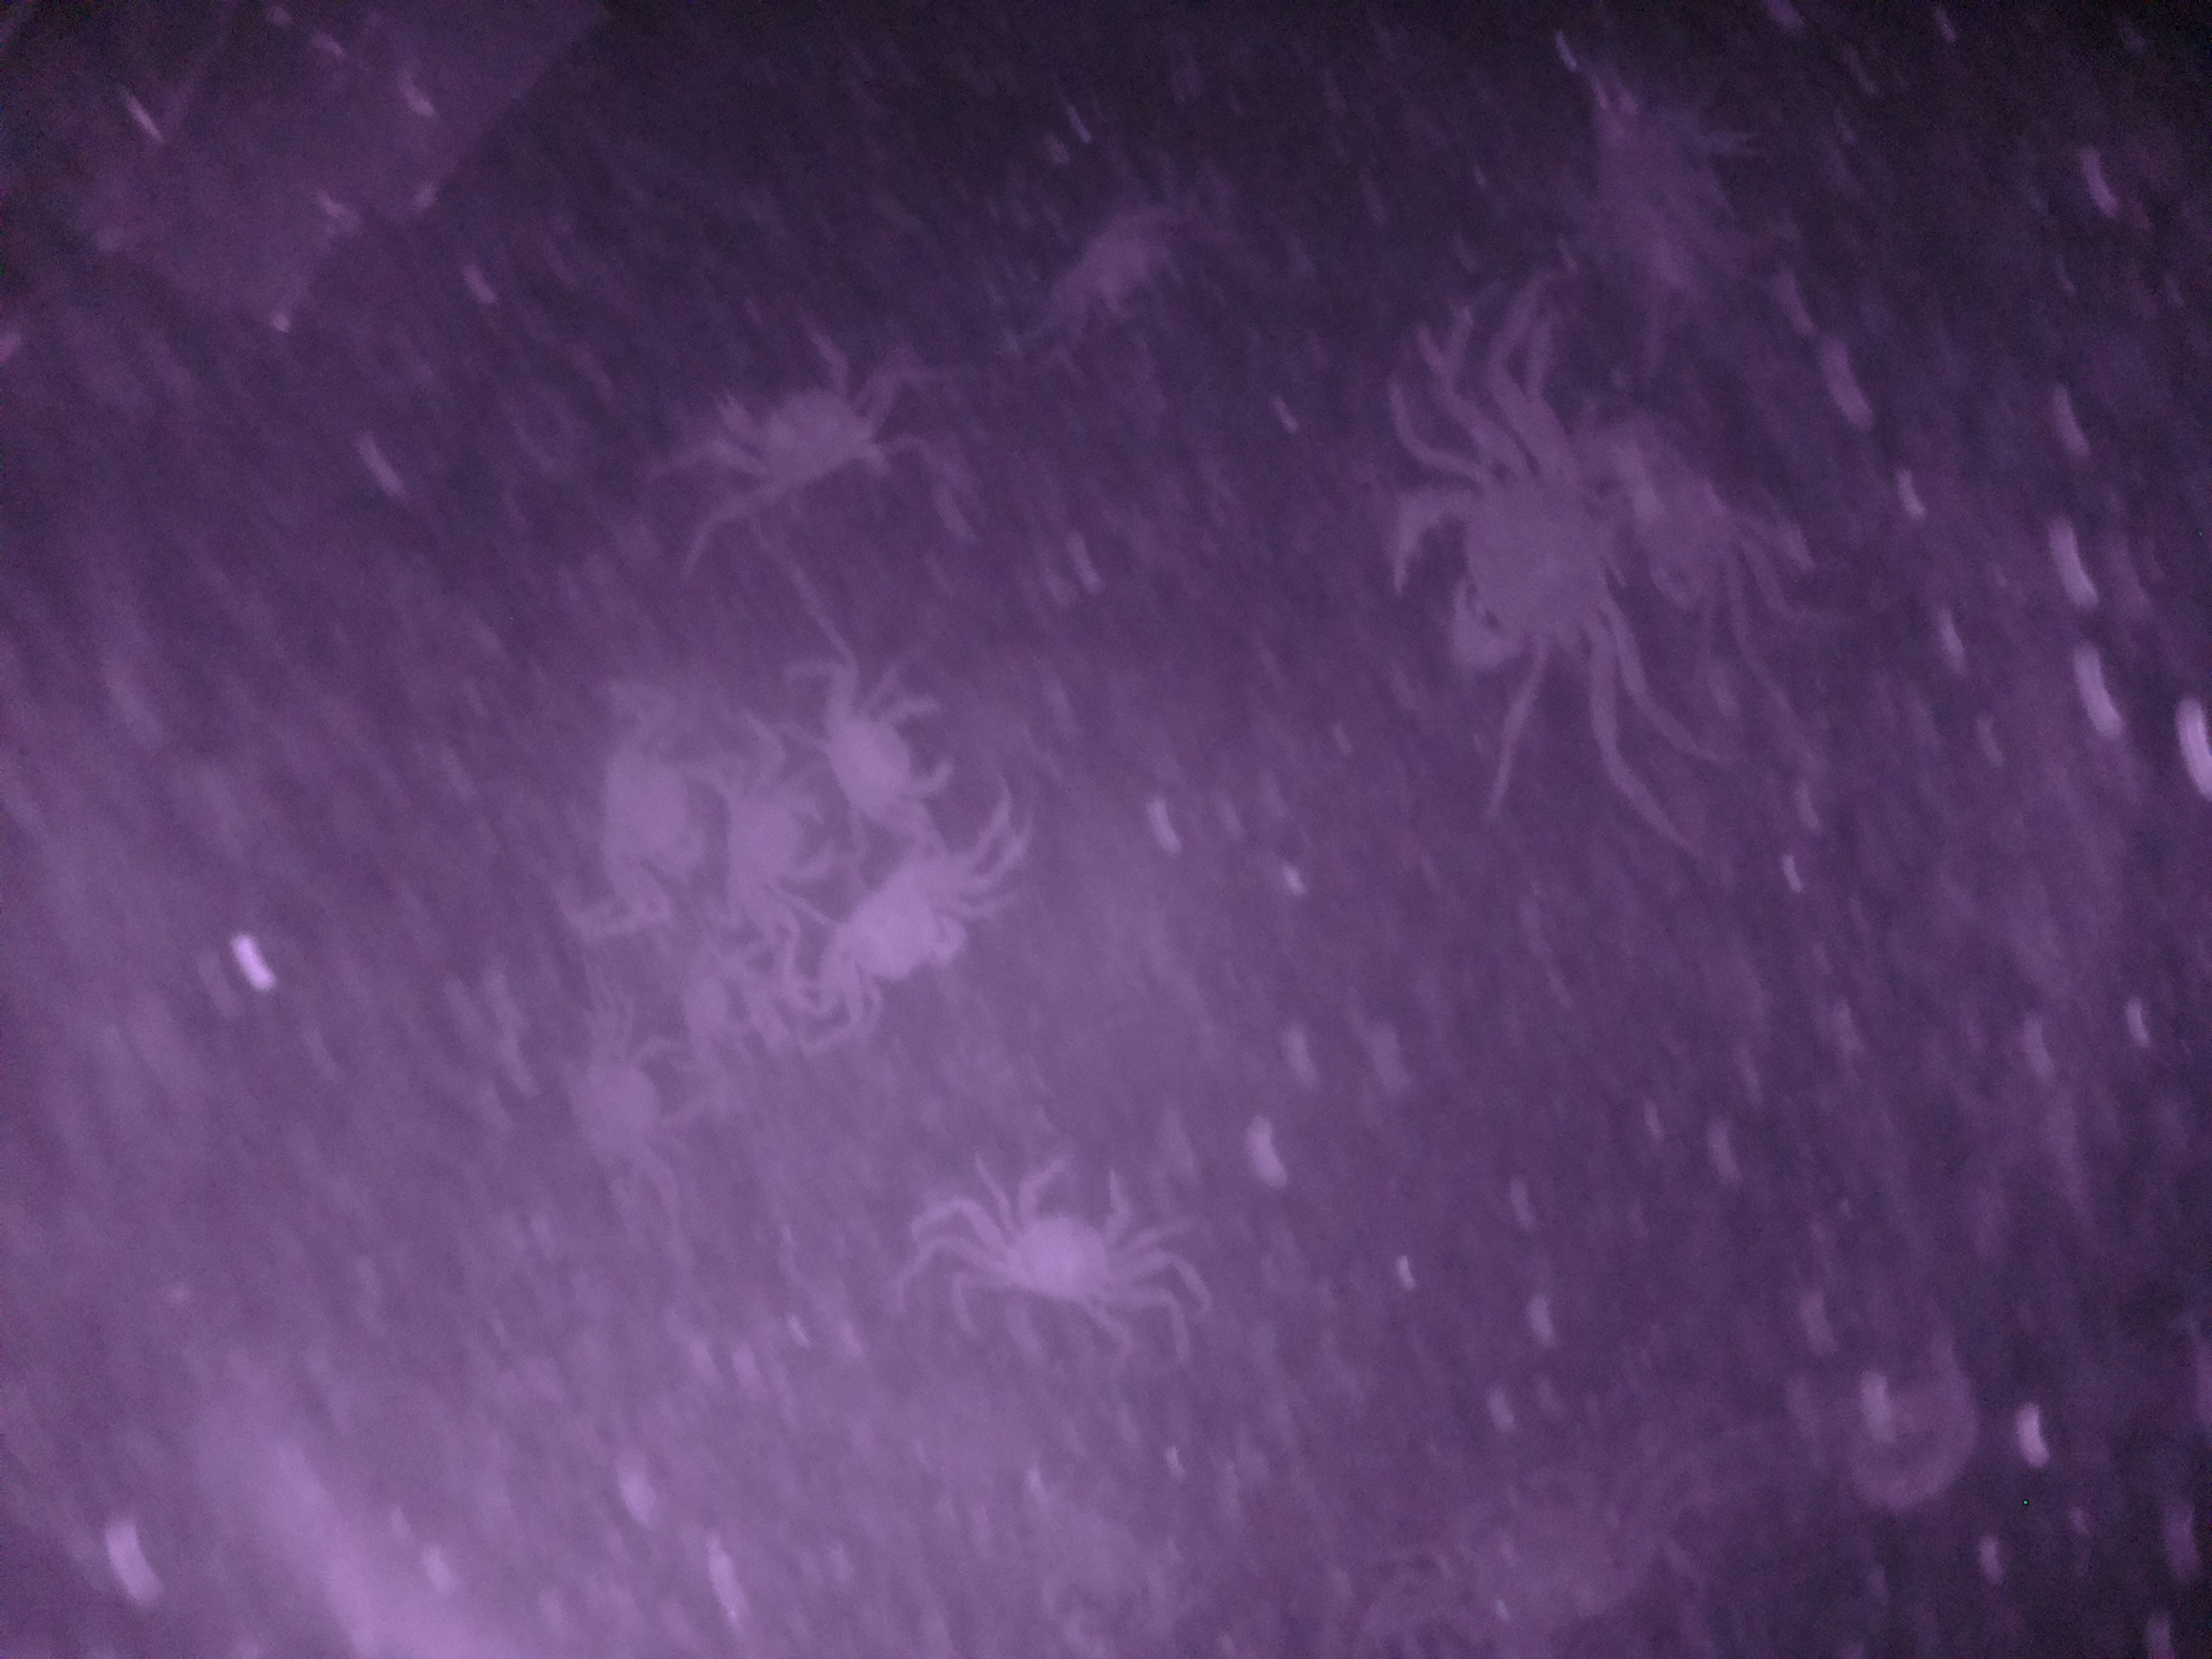Crab: (1357, 436, 1662, 714), (801, 821, 1026, 1047), (979, 1121, 1157, 1331), (796, 662, 974, 854)
